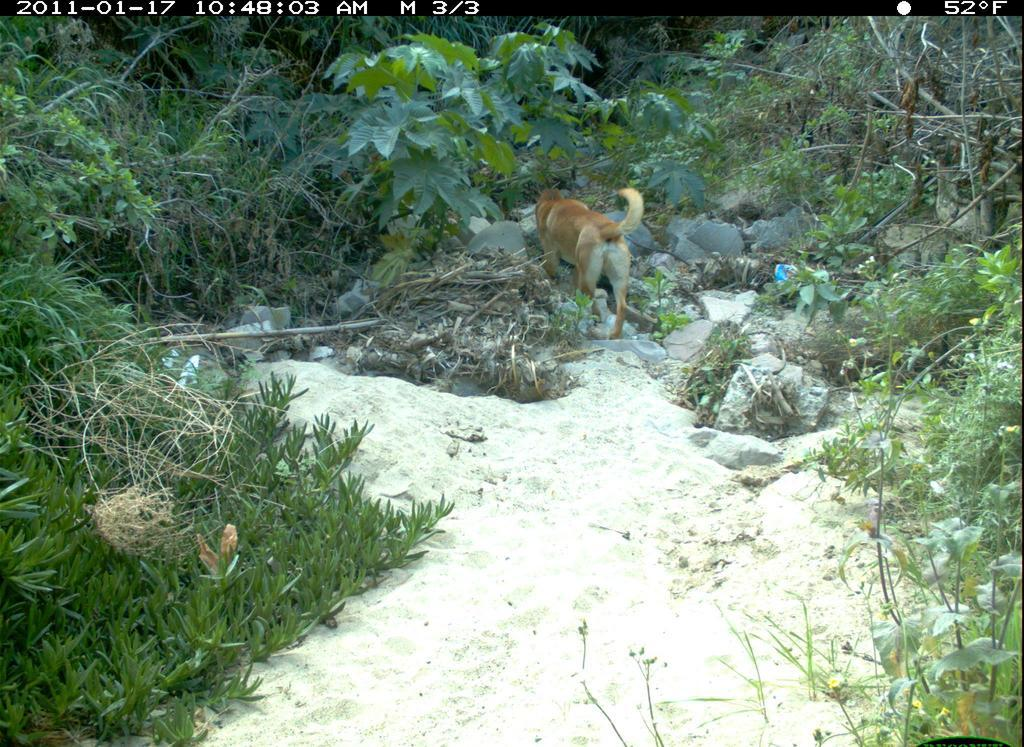dog: (525, 181, 653, 341)
